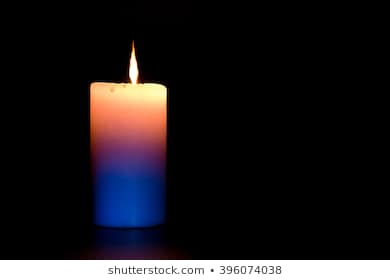Fire: (127, 36, 142, 88)
